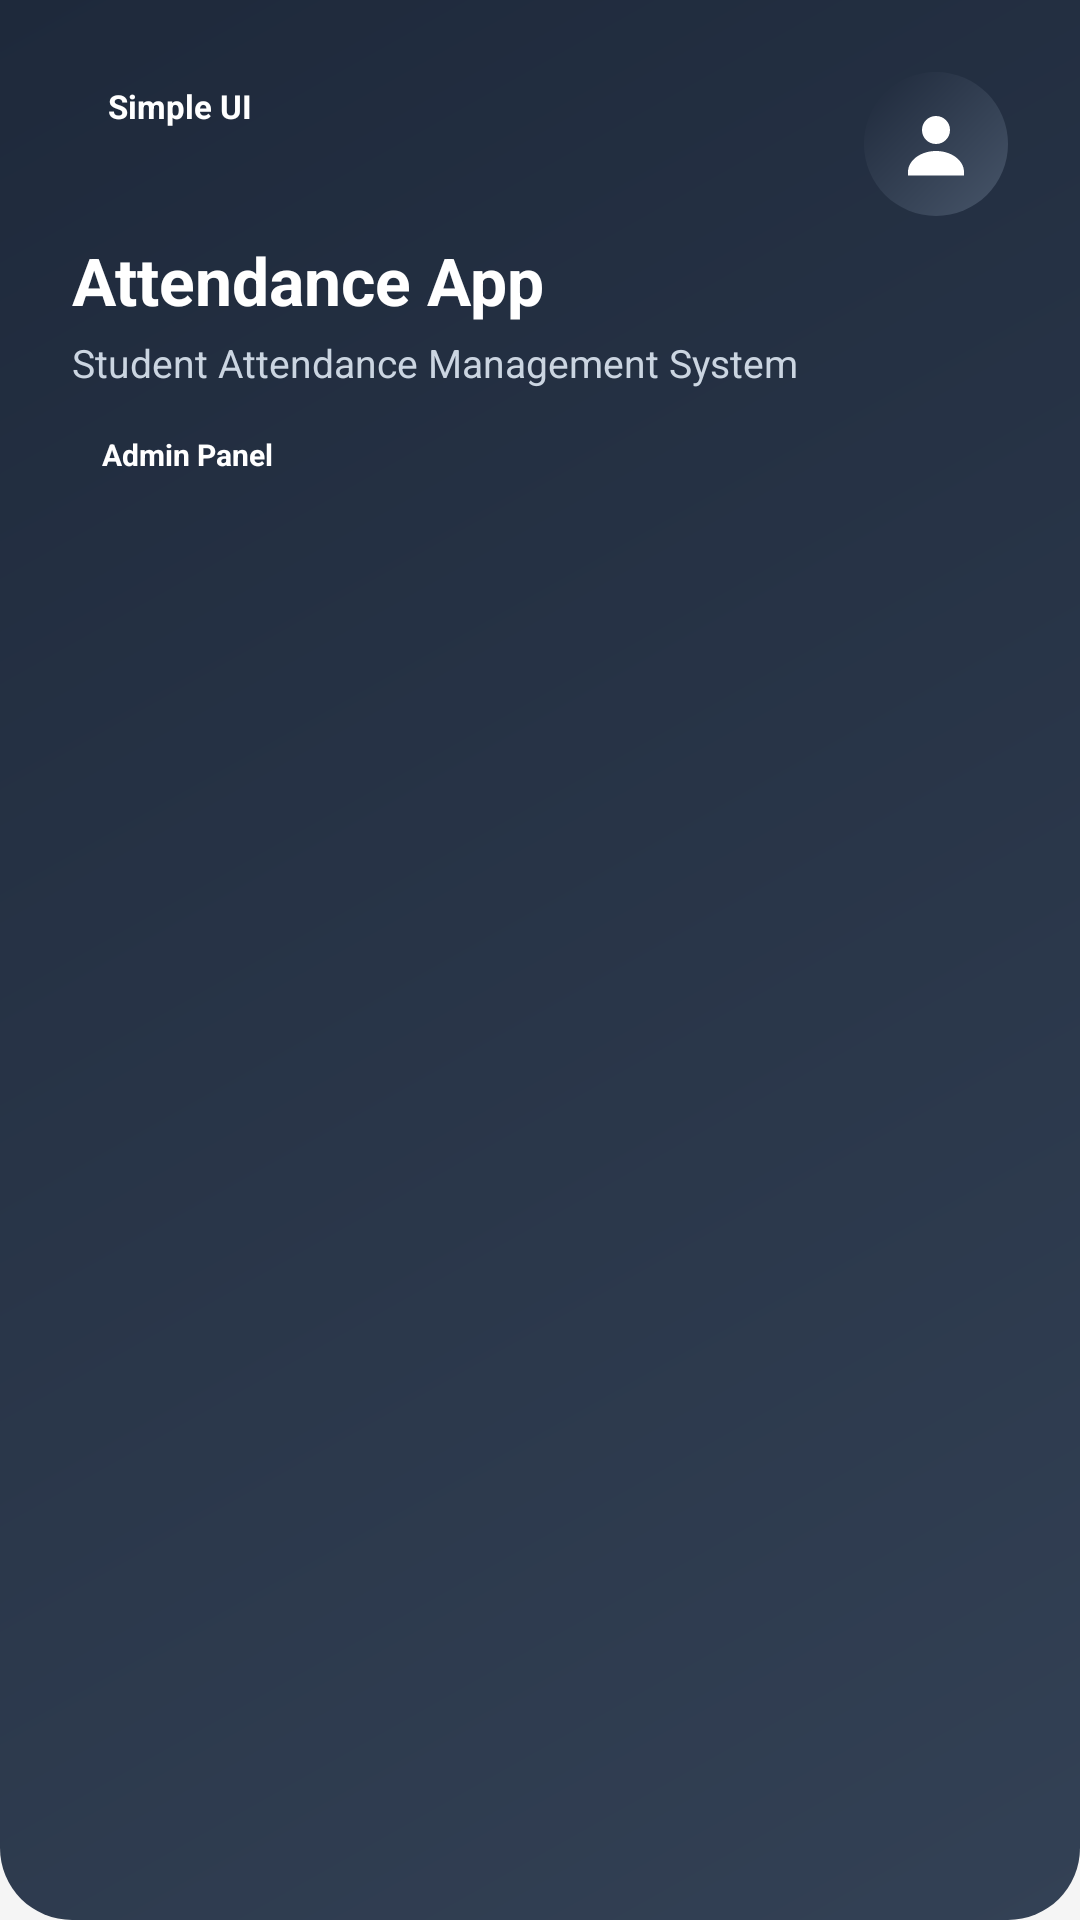

Icons on this 1080×1920 Android screen, each with the point to tap as [x,y]:
profile: [958,166]
